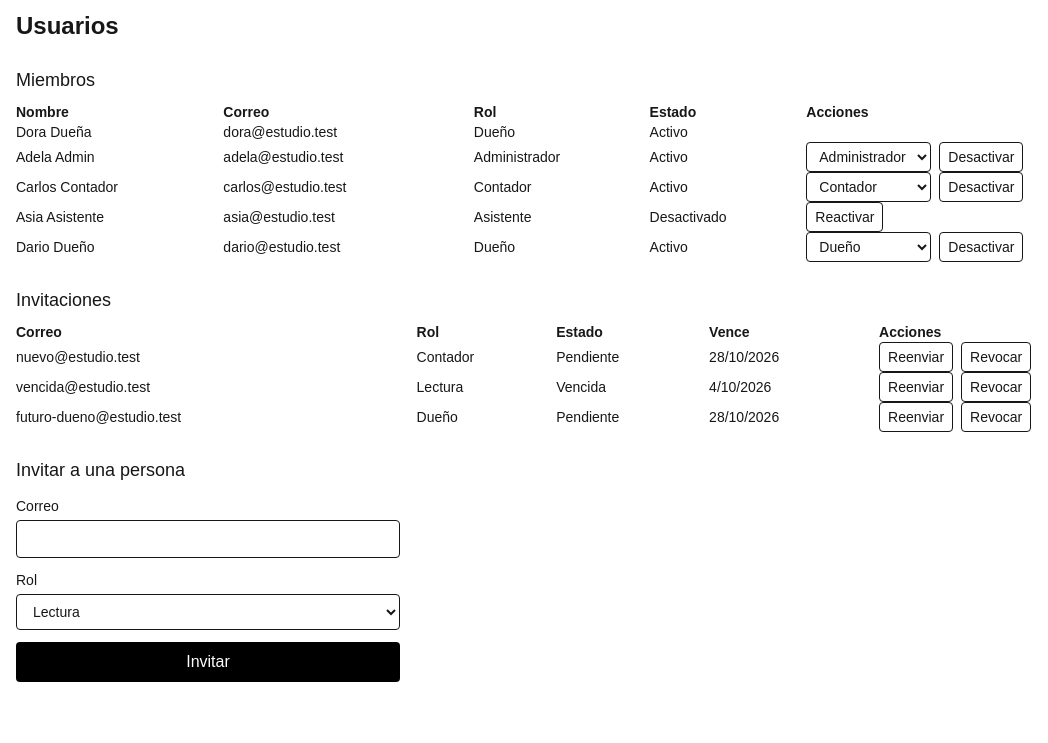
Scenario: /usuarios › invitar: 409 ya_es_miembro → su mensaje
The image size is (1048, 743).
Type "otra@estudio.test" into the field labelled "Correo".
click(208, 539); type("otra@estudio.test")  # box [16, 520, 400, 558]
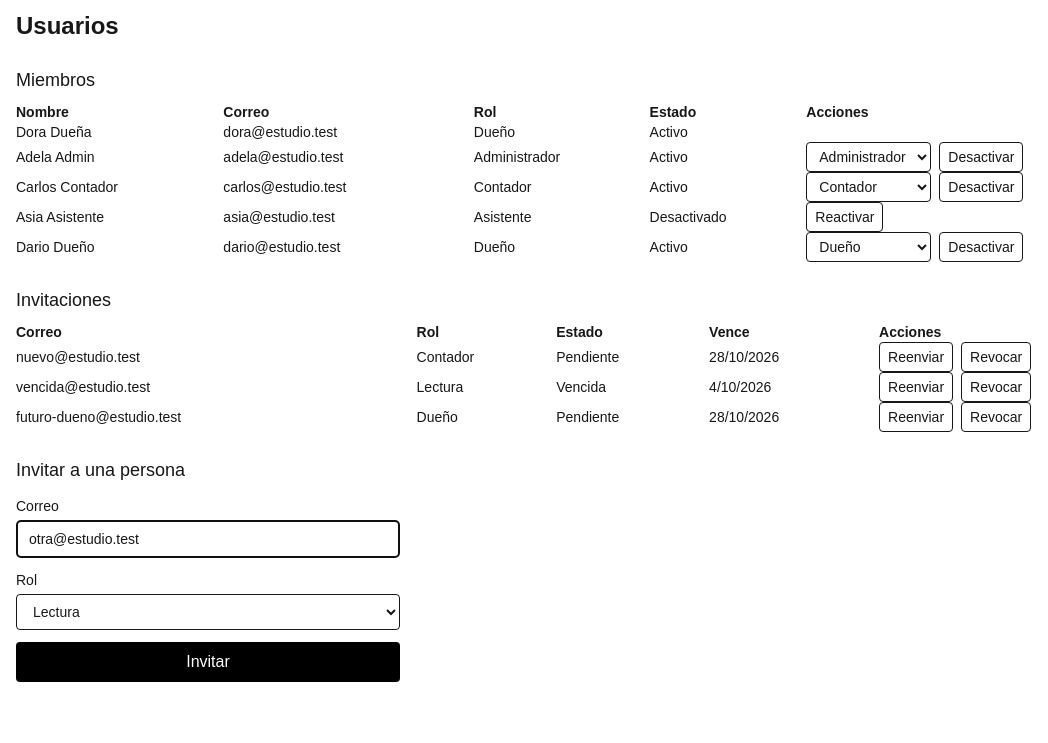
Click the button "Invitar".
click(208, 662)  # box [16, 642, 400, 682]
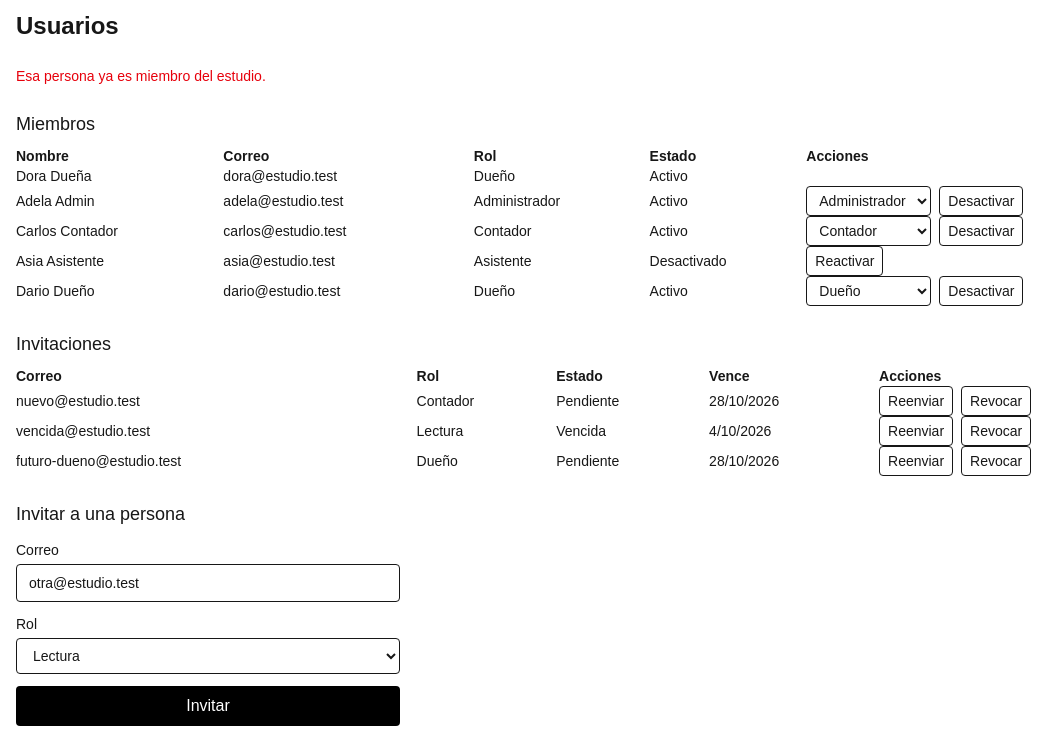
expect the text "Esa persona ya es miembro del estudio." is shown: met, box [16, 68, 266, 84]
